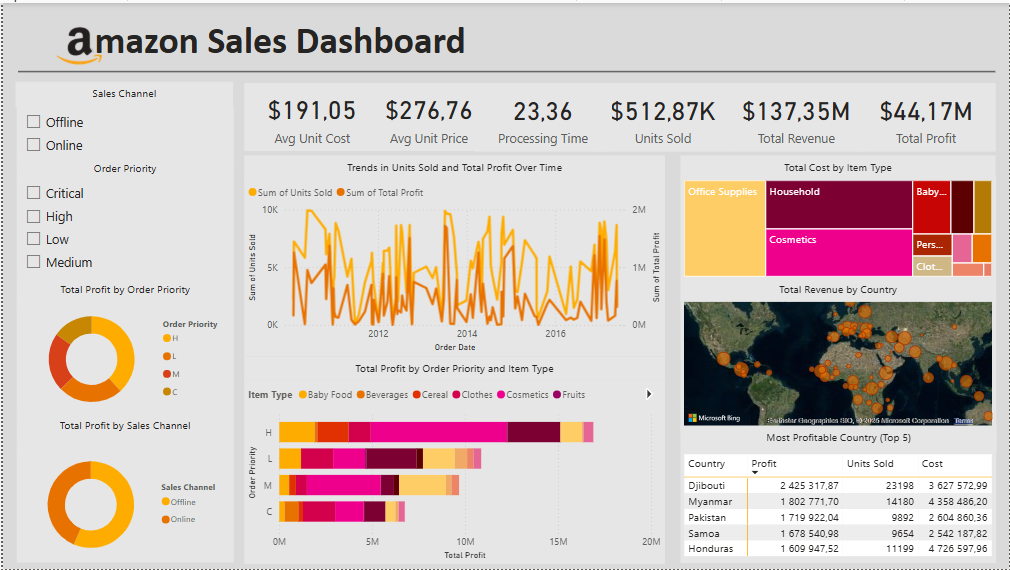

Layout of this report page (visuals, bound fields, positions):
{"tool":"powerbi","page":{"name":"Page 1","canvas":[1280,720],"ordinal":0},"visuals":[{"type":"card","title":"Total Unit Sold","fields":{"Values":["Sum(Amazon Sales data.Units Sold)"]},"box":[752.1,101.4,175,87.1],"z":0},{"type":"card","title":"Total Revenue","fields":{"Values":["Sum(Amazon Sales data.Total Revenue)"]},"box":[921.4,101.4,177.1,87.1],"z":1000},{"type":"card","fields":{"Values":["Sum(Amazon Sales data.Total Profit)"]},"box":[1086,102,176.7,87.3],"z":2000},{"type":"map","fields":{"Category":["Amazon Sales data.Country"],"Size":["Sum(Amazon Sales data.Total Revenue)"]},"box":[861.7,370,401.7,176.7],"z":3000},{"type":"textbox","box":[105.6,13.1,781.2,68.8],"z":4000},{"type":"image","box":[42,6,110,97.3],"z":5000},{"type":"card","fields":{"Values":["Avg(Amazon Sales data.Processing Time (jours))"]},"box":[599.3,101.4,175,87.1],"z":6000},{"type":"shape","box":[18.3,40,1243.3,95],"z":7000},{"type":"treemap","fields":{"Group":["Amazon Sales data.Item Type"],"Values":["Sum(Amazon Sales data.Total Cost)"]},"box":[861.3,221.3,401.3,132],"z":8000},{"type":"card","fields":{"Values":["Avg(Amazon Sales data.Unit Price)"]},"box":[455,101.9,174.4,86.2],"z":9000},{"type":"lineChart","title":"Units Sold and Sum of Total Profit by Order Date","fields":{"Category":["Amazon Sales data.Order Date"],"Y":["Sum(Amazon Sales data.Units Sold)"],"Y2":["Sum(Amazon Sales data.Total Profit)"]},"box":[306.5,221.5,535,228.5],"z":10000},{"type":"card","fields":{"Values":["Avg(Amazon Sales data.Unit Cost)"]},"box":[306.9,101.9,173.1,86.2],"z":11000},{"type":"slicer","fields":{"Values":["Amazon Sales data.Sales Channel"]},"box":[17.1,131.4,275.7,75.7],"z":12000},{"type":"slicer","fields":{"Values":["Amazon Sales data.Order Priority Label"]},"box":[17.5,222.5,275.6,129.7],"z":13000},{"type":"barChart","fields":{"Category":["Amazon Sales data.Order Priority"],"Y":["Sum(Amazon Sales data.Total Profit)"],"Series":["Amazon Sales data.Item Type"]},"box":[306.8,478.4,534.8,234.8],"z":14000},{"type":"donutChart","title":"Total Profit by Sales Channel","fields":{"Category":["Amazon Sales data.Sales Channel"],"Y":["Sum(Amazon Sales data.Total Profit)"]},"box":[17.9,564.5,275.9,147.6],"z":15000},{"type":"textbox","box":[861.3,537.3,402.7,32.7],"z":16000},{"type":"donutChart","title":"Sum of Total Profit by Order Priority","fields":{"Y":["Sum(Amazon Sales data.Total Profit)"],"Category":["Amazon Sales data.Order Priority"]},"box":[17.9,380,275.9,146.6],"z":17000},{"type":"pivotTable","fields":{"Values":["Sum(Top5_Regions.Total Profit)","Sum(Top5_Regions.Units Sold)","Sum(Top5_Regions.Total Cost)"],"Rows":["Top5_Country.Country"]},"box":[862,570,401.3,143.3],"z":18000},{"type":"textbox","box":[17.9,522.8,275.9,47.2],"z":19000},{"type":"textbox","box":[18,350,276,39],"z":20000},{"type":"textbox","box":[306.5,193.5,535.5,28.5],"z":21000},{"type":"textbox","box":[306.8,450,535.2,28.4],"z":22000},{"type":"textbox","box":[16.7,100,276.7,31.7],"z":23000},{"type":"textbox","box":[17.5,195,275.6,30],"z":24000},{"type":"textbox","box":[862,194,401,31],"z":25000},{"type":"textbox","box":[861.3,350,401.3,30],"z":26000}]}

Visuals, with their boxes in screenshot pixels (x1, y1, x2, y2), scaled from the page's 1280x720 canvas onto the 1010x570 screenshot:
"Total Unit Sold" card: box(593, 80, 732, 149)
"Total Revenue" card: box(727, 80, 867, 149)
card - Sum(Amazon Sales data.Total Profit): box(857, 81, 996, 150)
map - Amazon Sales data.Country x Sum(Amazon Sales data.Total Revenue): box(680, 293, 997, 433)
textbox: box(83, 10, 700, 65)
image: box(33, 5, 120, 82)
card - Avg(Amazon Sales data.Processing Time (jours)): box(473, 80, 611, 149)
shape: box(14, 32, 995, 107)
treemap - Amazon Sales data.Item Type x Sum(Amazon Sales data.Total Cost): box(680, 175, 996, 280)
card - Avg(Amazon Sales data.Unit Price): box(359, 81, 497, 149)
"Units Sold and Sum of Total Profit by Order Date" lineChart: box(242, 175, 664, 356)
card - Avg(Amazon Sales data.Unit Cost): box(242, 81, 379, 149)
slicer - Amazon Sales data.Sales Channel: box(13, 104, 231, 164)
slicer - Amazon Sales data.Order Priority Label: box(14, 176, 231, 279)
barChart - Amazon Sales data.Order Priority x Sum(Amazon Sales data.Total Profit): box(242, 379, 664, 565)
"Total Profit by Sales Channel" donutChart: box(14, 447, 232, 564)
textbox: box(680, 425, 997, 451)
"Sum of Total Profit by Order Priority" donutChart: box(14, 301, 232, 417)
pivotTable - Sum(Top5_Regions.Total Profit) x Sum(Top5_Regions.Units Sold): box(680, 451, 997, 565)
textbox: box(14, 414, 232, 451)
textbox: box(14, 277, 232, 308)
textbox: box(242, 153, 664, 176)
textbox: box(242, 356, 664, 379)
textbox: box(13, 79, 232, 104)
textbox: box(14, 154, 231, 178)
textbox: box(680, 154, 997, 178)
textbox: box(680, 277, 996, 301)
